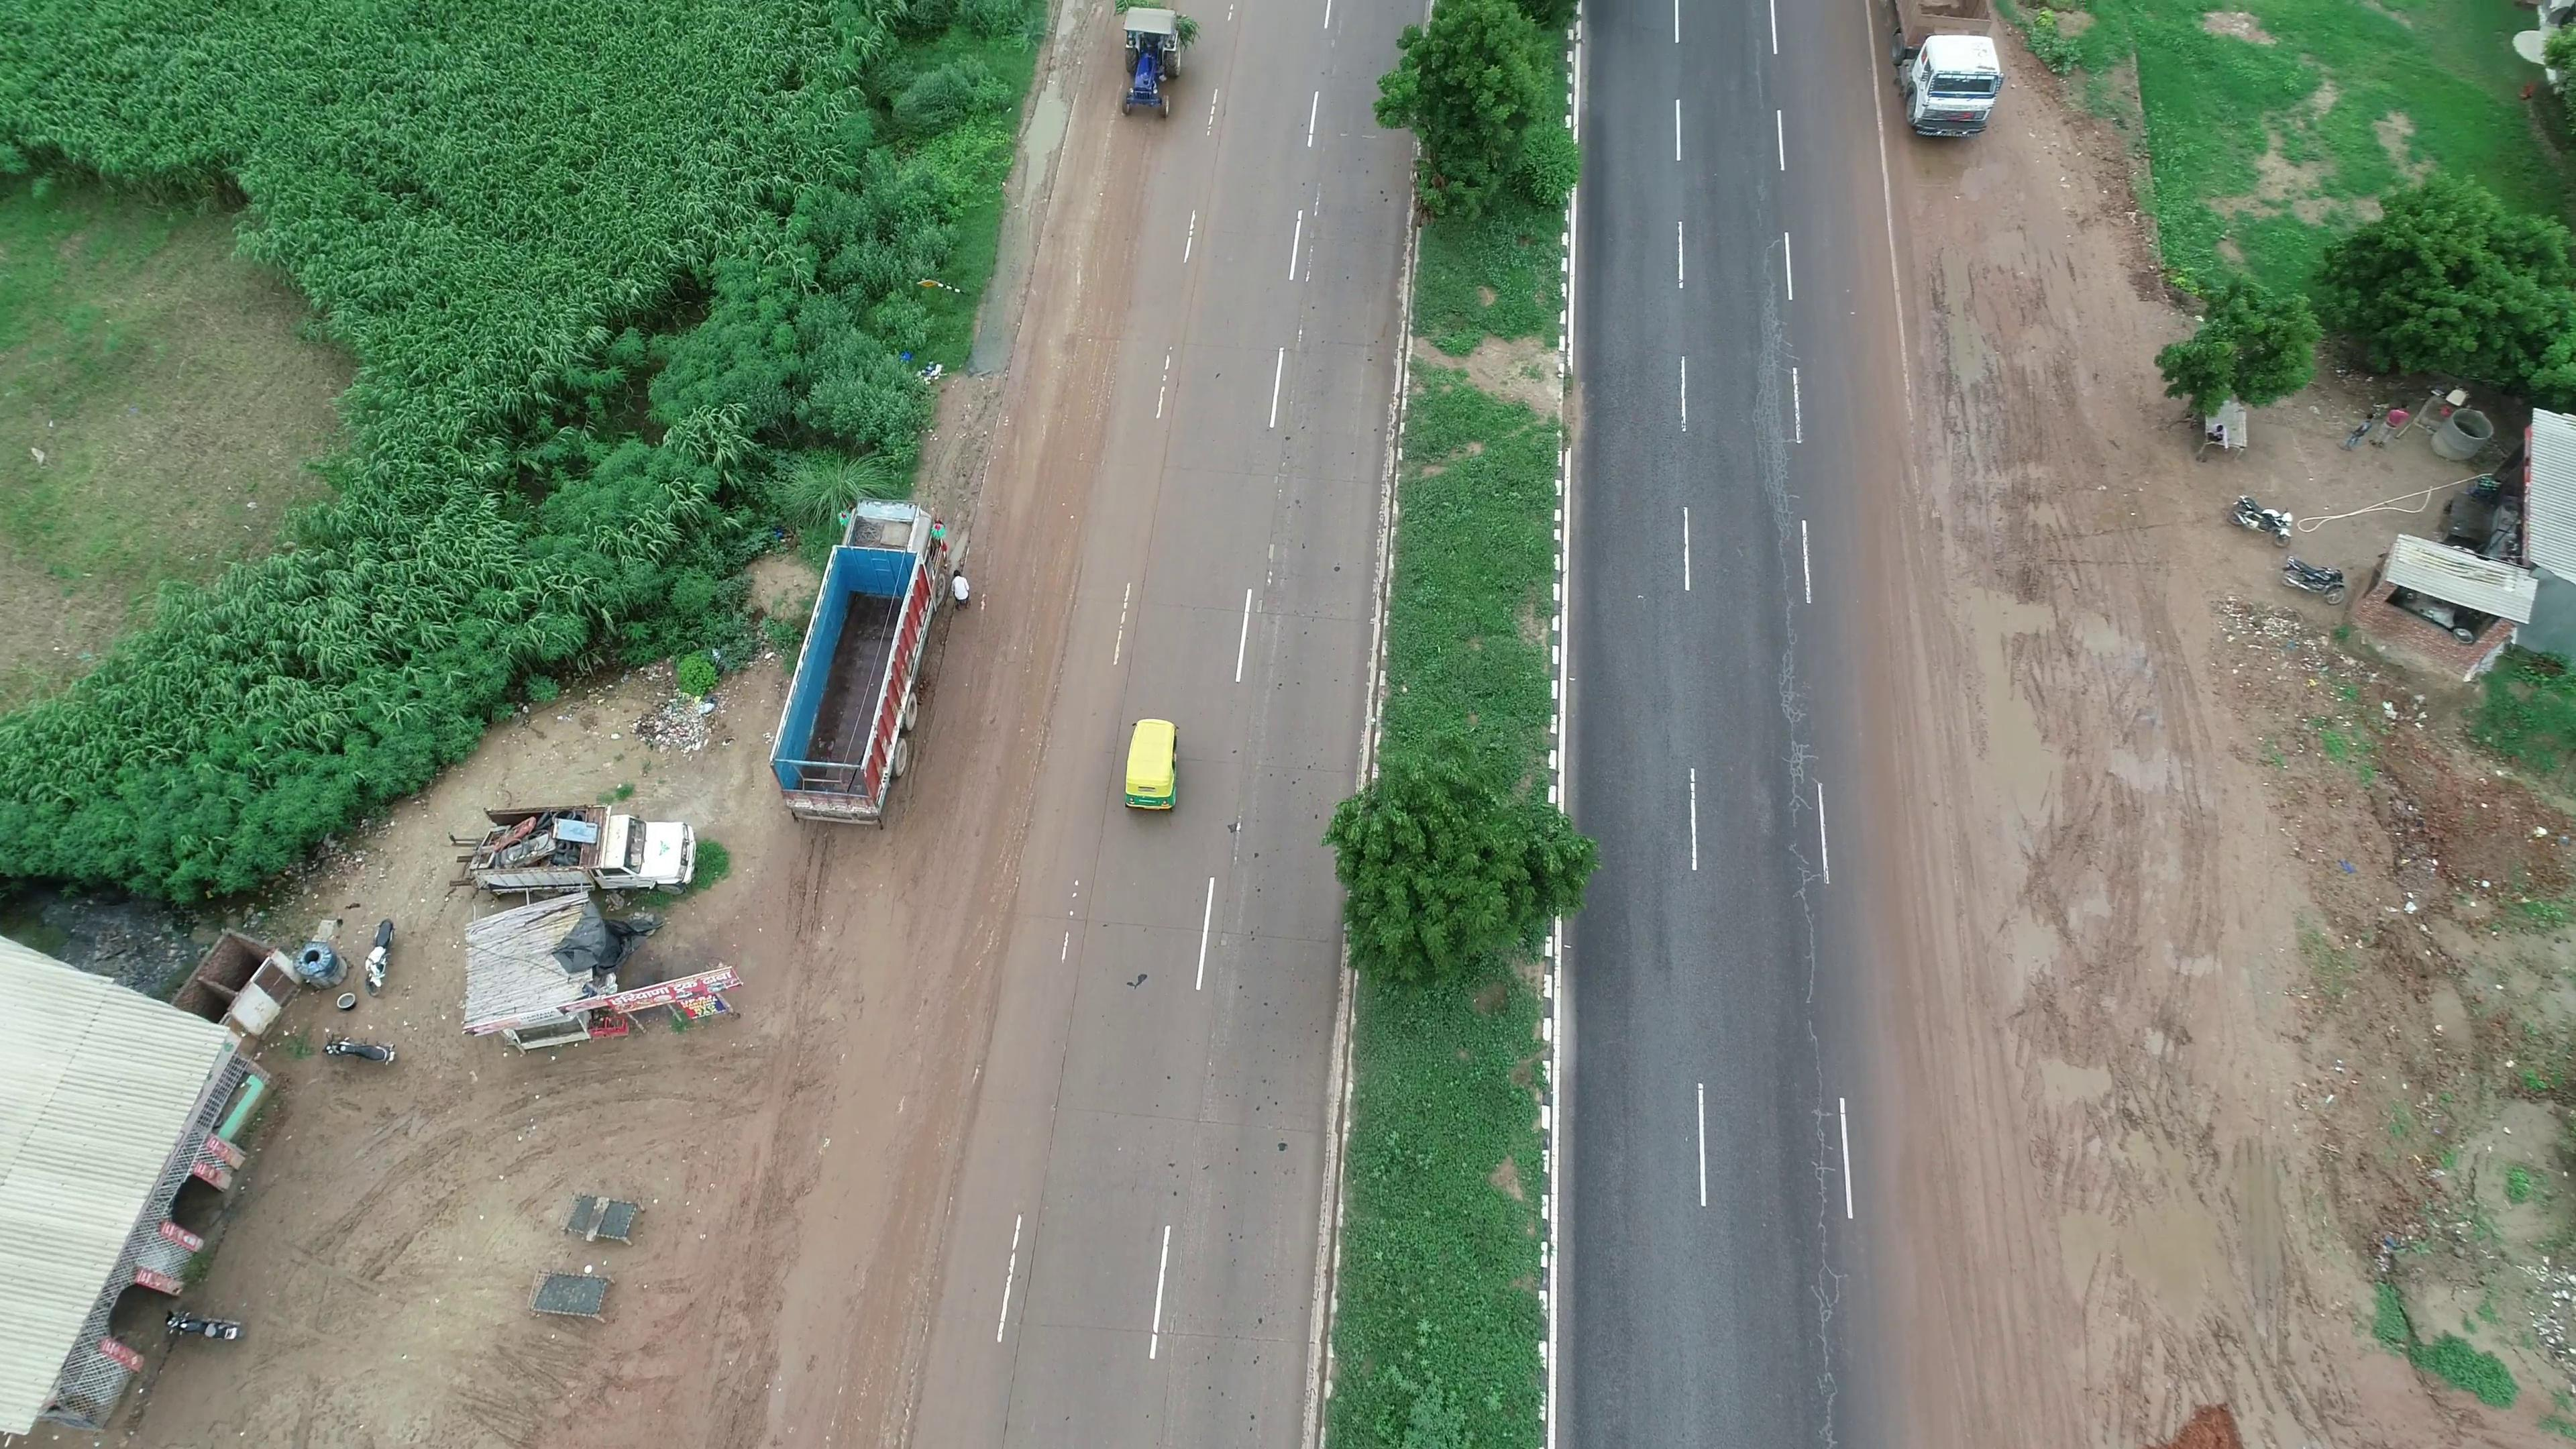Muddy_road: (1881, 931, 2081, 1449), (1854, 418, 2015, 947), (1854, 117, 1987, 416)
